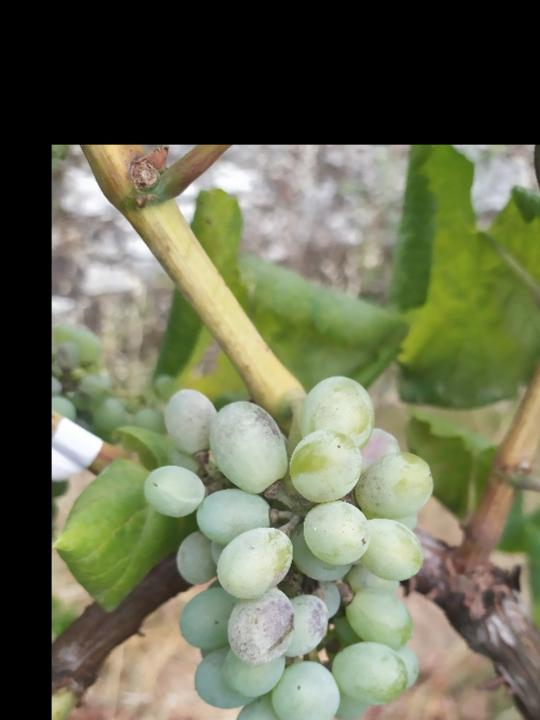grape: (141, 371, 439, 720)
